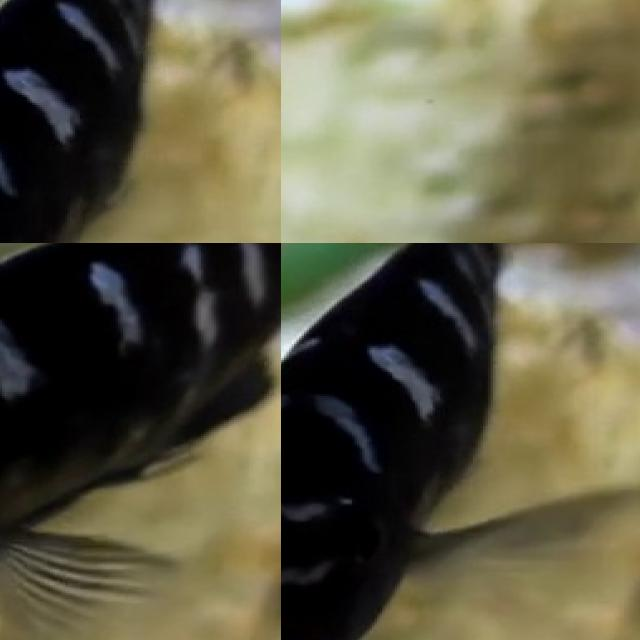fish: (281, 243, 561, 640), (0, 0, 281, 243)
